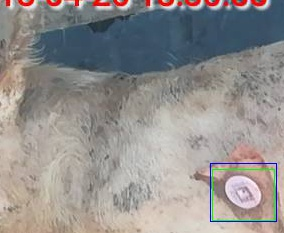text: (212, 169, 274, 220)
